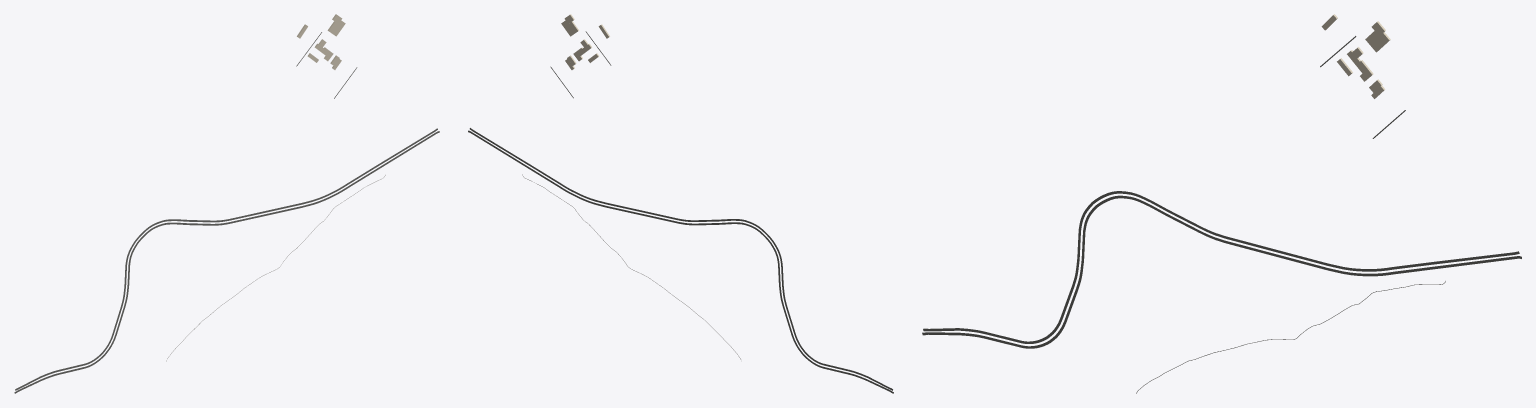
Rendered from historic-palestine-11_23_3532_3178.glb.
3 renders of one model, left to right at view 1: azimuth 30°, elevation 25°; view 2: azimuth 150°, elevation 25°; view 3: azimuth 330°, elevation 25°, orthographic. The views are drawn at different scales.
Visible parts, largest first — view 1: Road שדרות החברה הכלכלית, Road שדרות החברה הכלכלית.001; view 2: Road שדרות החברה הכלכלית, Road שדרות החברה הכלכלית.001; view 3: Road שדרות החברה הכלכלית, Road שדרות החברה הכלכלית.001.
Part boxes in pixels (<box>): Road שדרות החברה הכלכלית: <box>14,131,439,393</box>; Road שדרות החברה הכלכלית.001: <box>15,128,437,390</box>; Road שדרות החברה הכלכלית: <box>468,130,893,393</box>; Road שדרות החברה הכלכלית.001: <box>469,128,892,390</box>; Road שדרות החברה הכלכלית: <box>922,195,1521,348</box>; Road שדרות החברה הכלכלית.001: <box>923,191,1519,343</box>.
Size of the model in its own units: 1970 by 1352 by 8.7.
